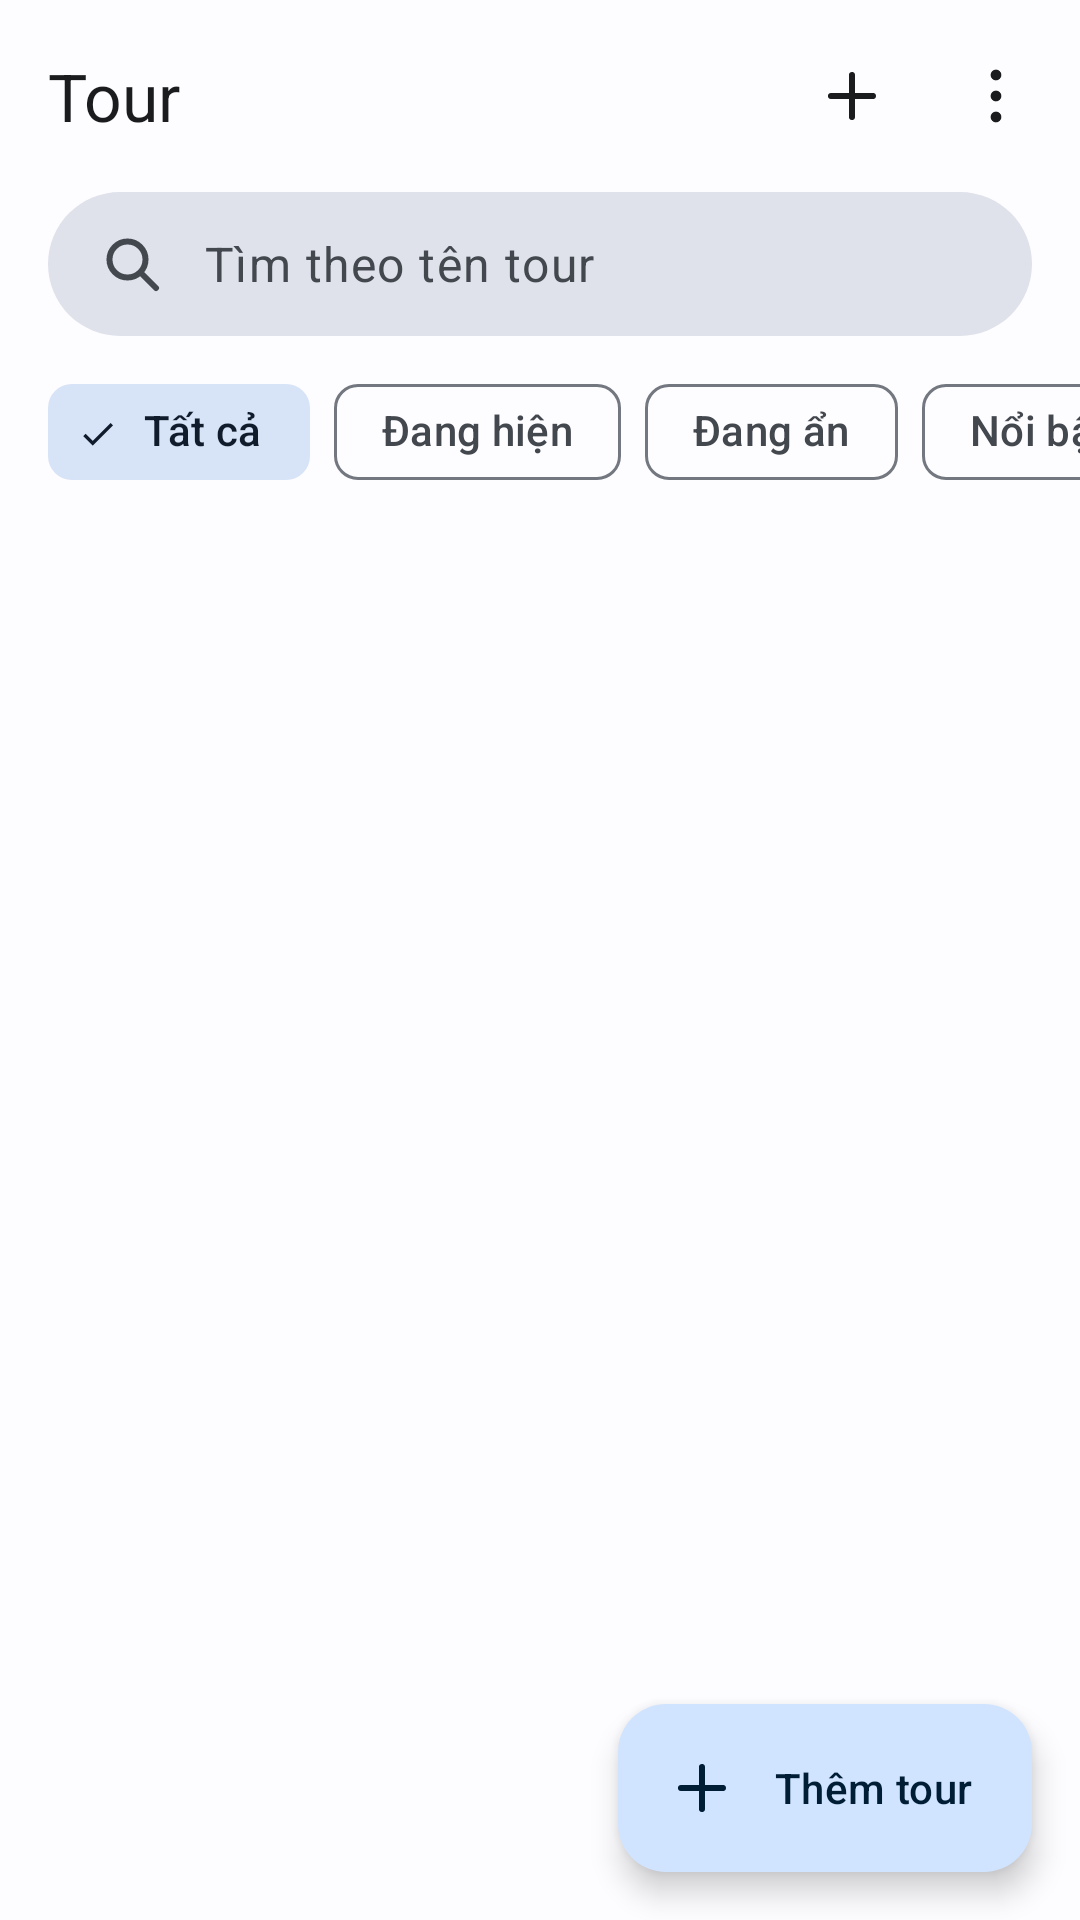

Icon click points for this 1080px×1920px phone screenshot, format (x=x, y=y):
search: (x=132, y=264)
Tùy chọn: (x=996, y=96)
